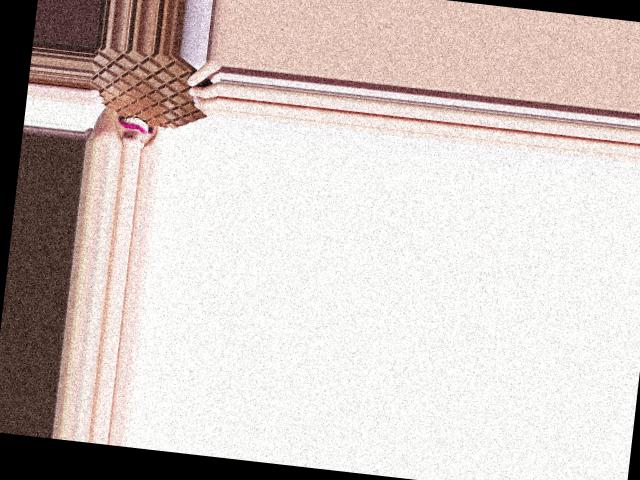chocolate: (87, 46, 223, 136)
